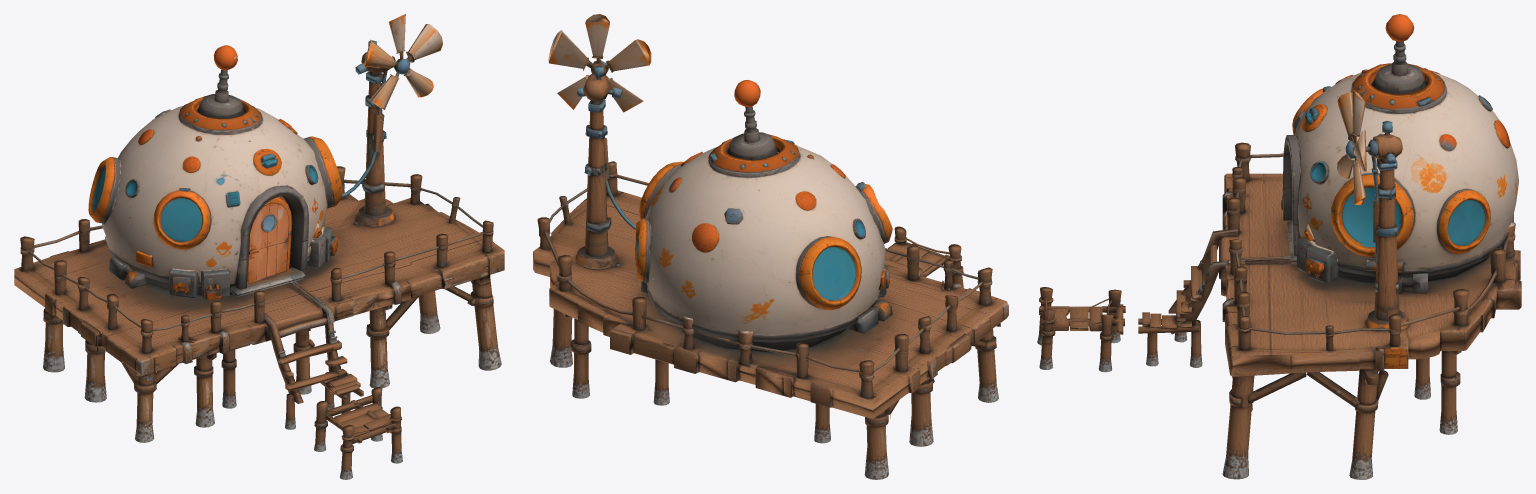
Rendered from dome_hut.glb.
The picture shows the model from 3 angles, left to right: view 1: azimuth 30°, elevation 25°; view 2: azimuth 150°, elevation 25°; view 3: azimuth 270°, elevation 25°; orthographic projection. The views are drawn at different scales.
Parts seen in each view (by area): view 1: tripo_node_ed8dd96f-8414-40b5-abf7-89d0f799e873; view 2: tripo_node_ed8dd96f-8414-40b5-abf7-89d0f799e873; view 3: tripo_node_ed8dd96f-8414-40b5-abf7-89d0f799e873.
Part boxes in pixels (<box>): tripo_node_ed8dd96f-8414-40b5-abf7-89d0f799e873: <box>14,14,504,479</box>; tripo_node_ed8dd96f-8414-40b5-abf7-89d0f799e873: <box>533,14,1008,479</box>; tripo_node_ed8dd96f-8414-40b5-abf7-89d0f799e873: <box>1037,14,1521,479</box>.
Bounding box in the file's own units: 0.9995 × 0.8325 × 0.9937.
1 material, 1 textured.
